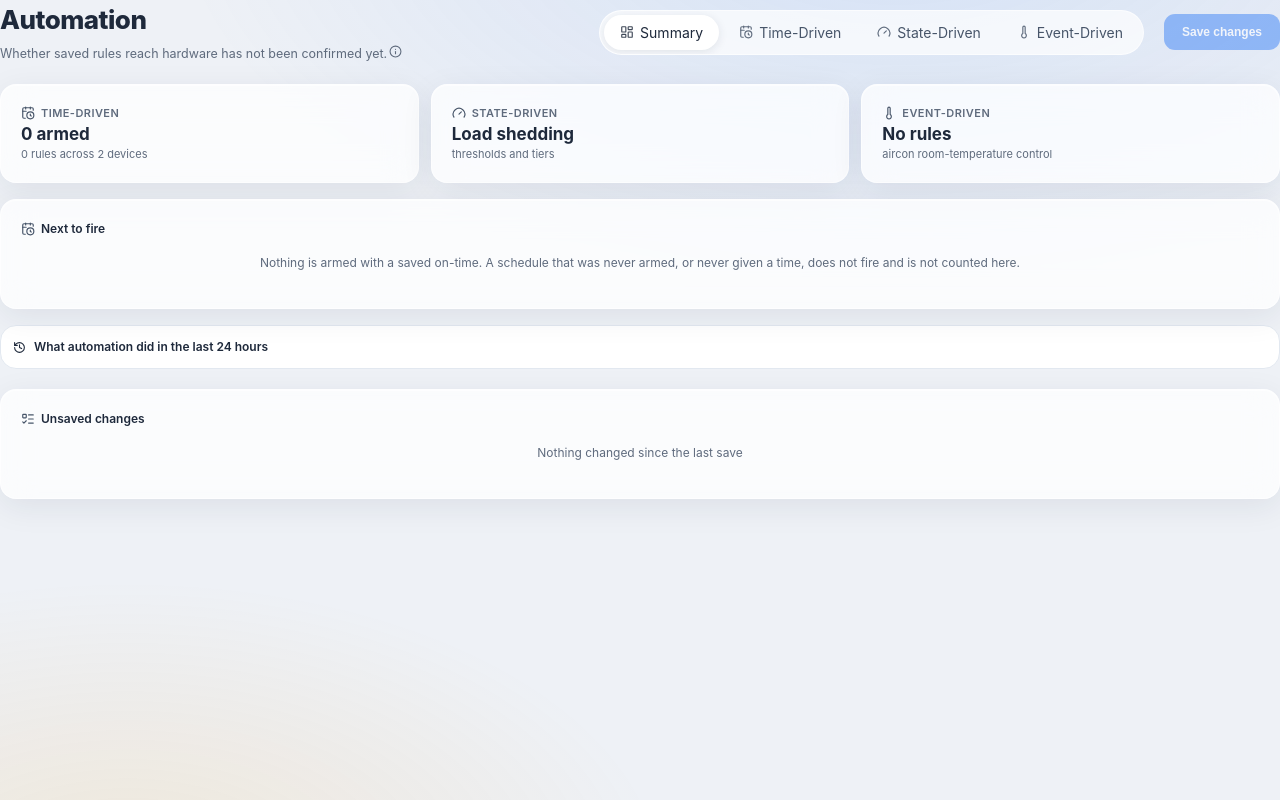
Test: AutomationPage — strategies that are not installed › puts the solar strategy under State-Driven, with the logger named as the blocker
Click the tab "State-Driven": (929,32) left=861, top=14, right=997, bottom=50
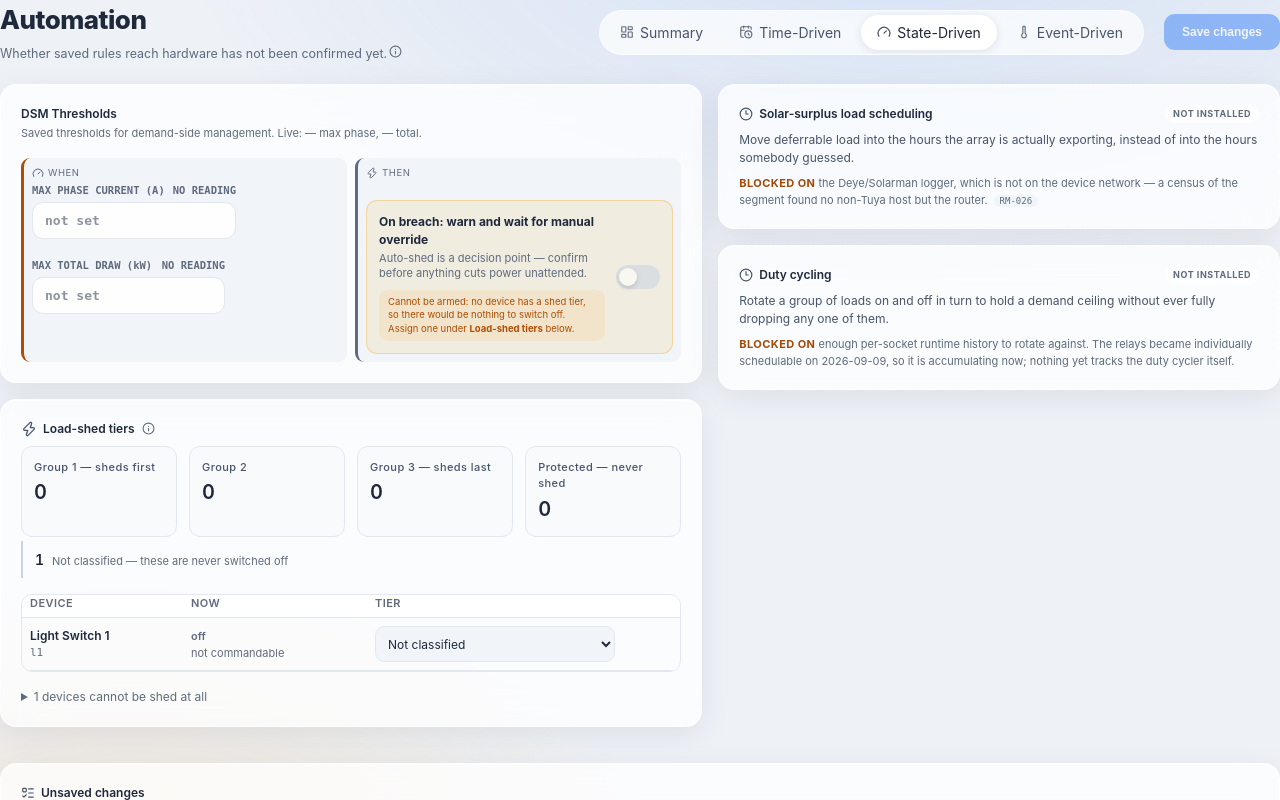
Now the heading "Solar-surplus load scheduling" is shown, box left=739, top=105, right=933, bottom=123
Now the text "not on the device network" is shown, box left=739, top=176, right=1238, bottom=206
